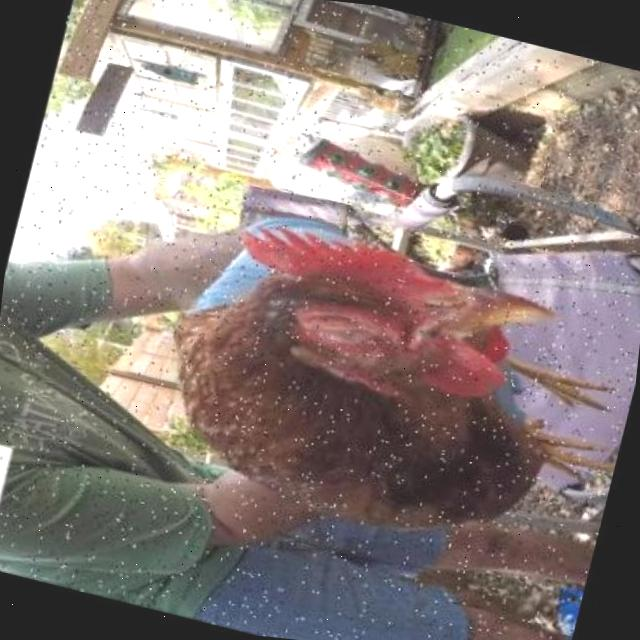Coryza: (270, 276, 437, 414)
